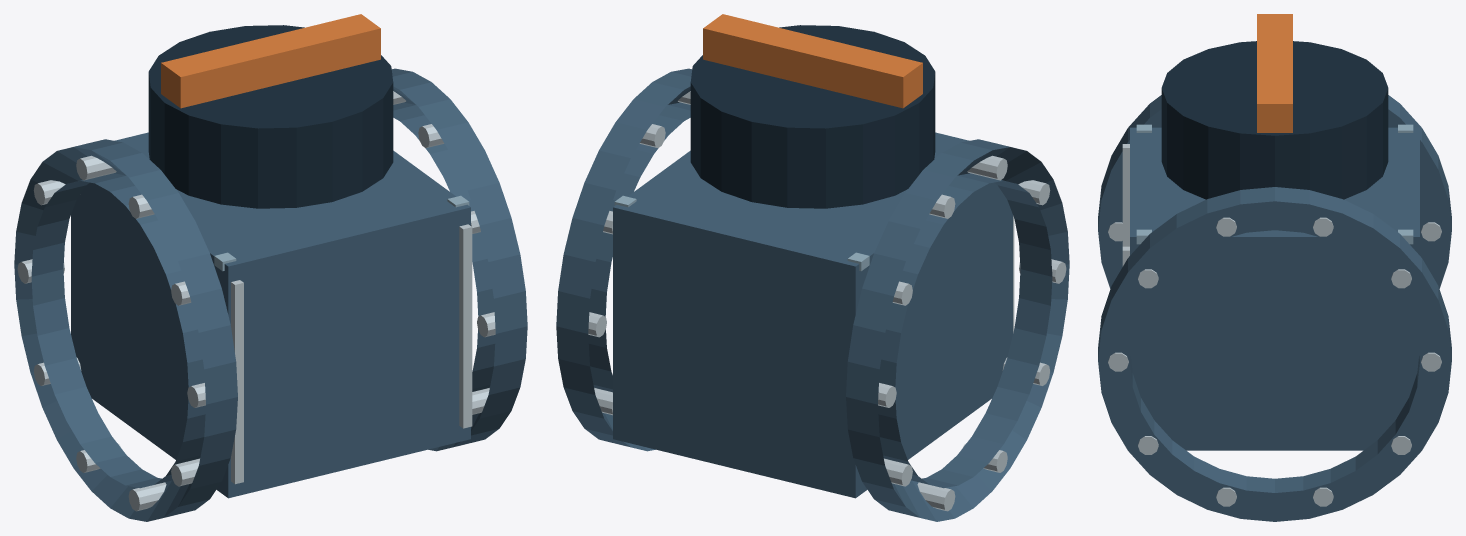
File: 34_L75_AutomaticVacuumThrottleValve.fbx
3 views of the same model, side by side, from view 1: azimuth 30°, elevation 25°; view 2: azimuth 150°, elevation 25°; view 3: azimuth 270°, elevation 25° (orthographic). The views are drawn at different scales.
Visible parts, largest first — view 1: AutomaticVacuumThrottleValve, AutomaticVacuumThrottleValve_Part_0029, AutomaticVacuumThrottleValve_Part_0030; view 2: AutomaticVacuumThrottleValve, AutomaticVacuumThrottleValve_Part_0029, AutomaticVacuumThrottleValve_Part_0030; view 3: AutomaticVacuumThrottleValve, AutomaticVacuumThrottleValve_Part_0029, AutomaticVacuumThrottleValve_Part_0030.
Part boxes in pixels (bbox=[...]): AutomaticVacuumThrottleValve: bbox=[14, 68, 527, 521]; AutomaticVacuumThrottleValve_Part_0029: bbox=[148, 25, 393, 208]; AutomaticVacuumThrottleValve_Part_0030: bbox=[161, 14, 380, 108]; AutomaticVacuumThrottleValve: bbox=[556, 68, 1069, 521]; AutomaticVacuumThrottleValve_Part_0029: bbox=[690, 25, 935, 208]; AutomaticVacuumThrottleValve_Part_0030: bbox=[703, 14, 922, 108]; AutomaticVacuumThrottleValve: bbox=[1098, 95, 1451, 521]; AutomaticVacuumThrottleValve_Part_0029: bbox=[1161, 41, 1388, 199]; AutomaticVacuumThrottleValve_Part_0030: bbox=[1257, 14, 1292, 132].
Bounding box in the file's own units: 76.5 × 95 × 78.
